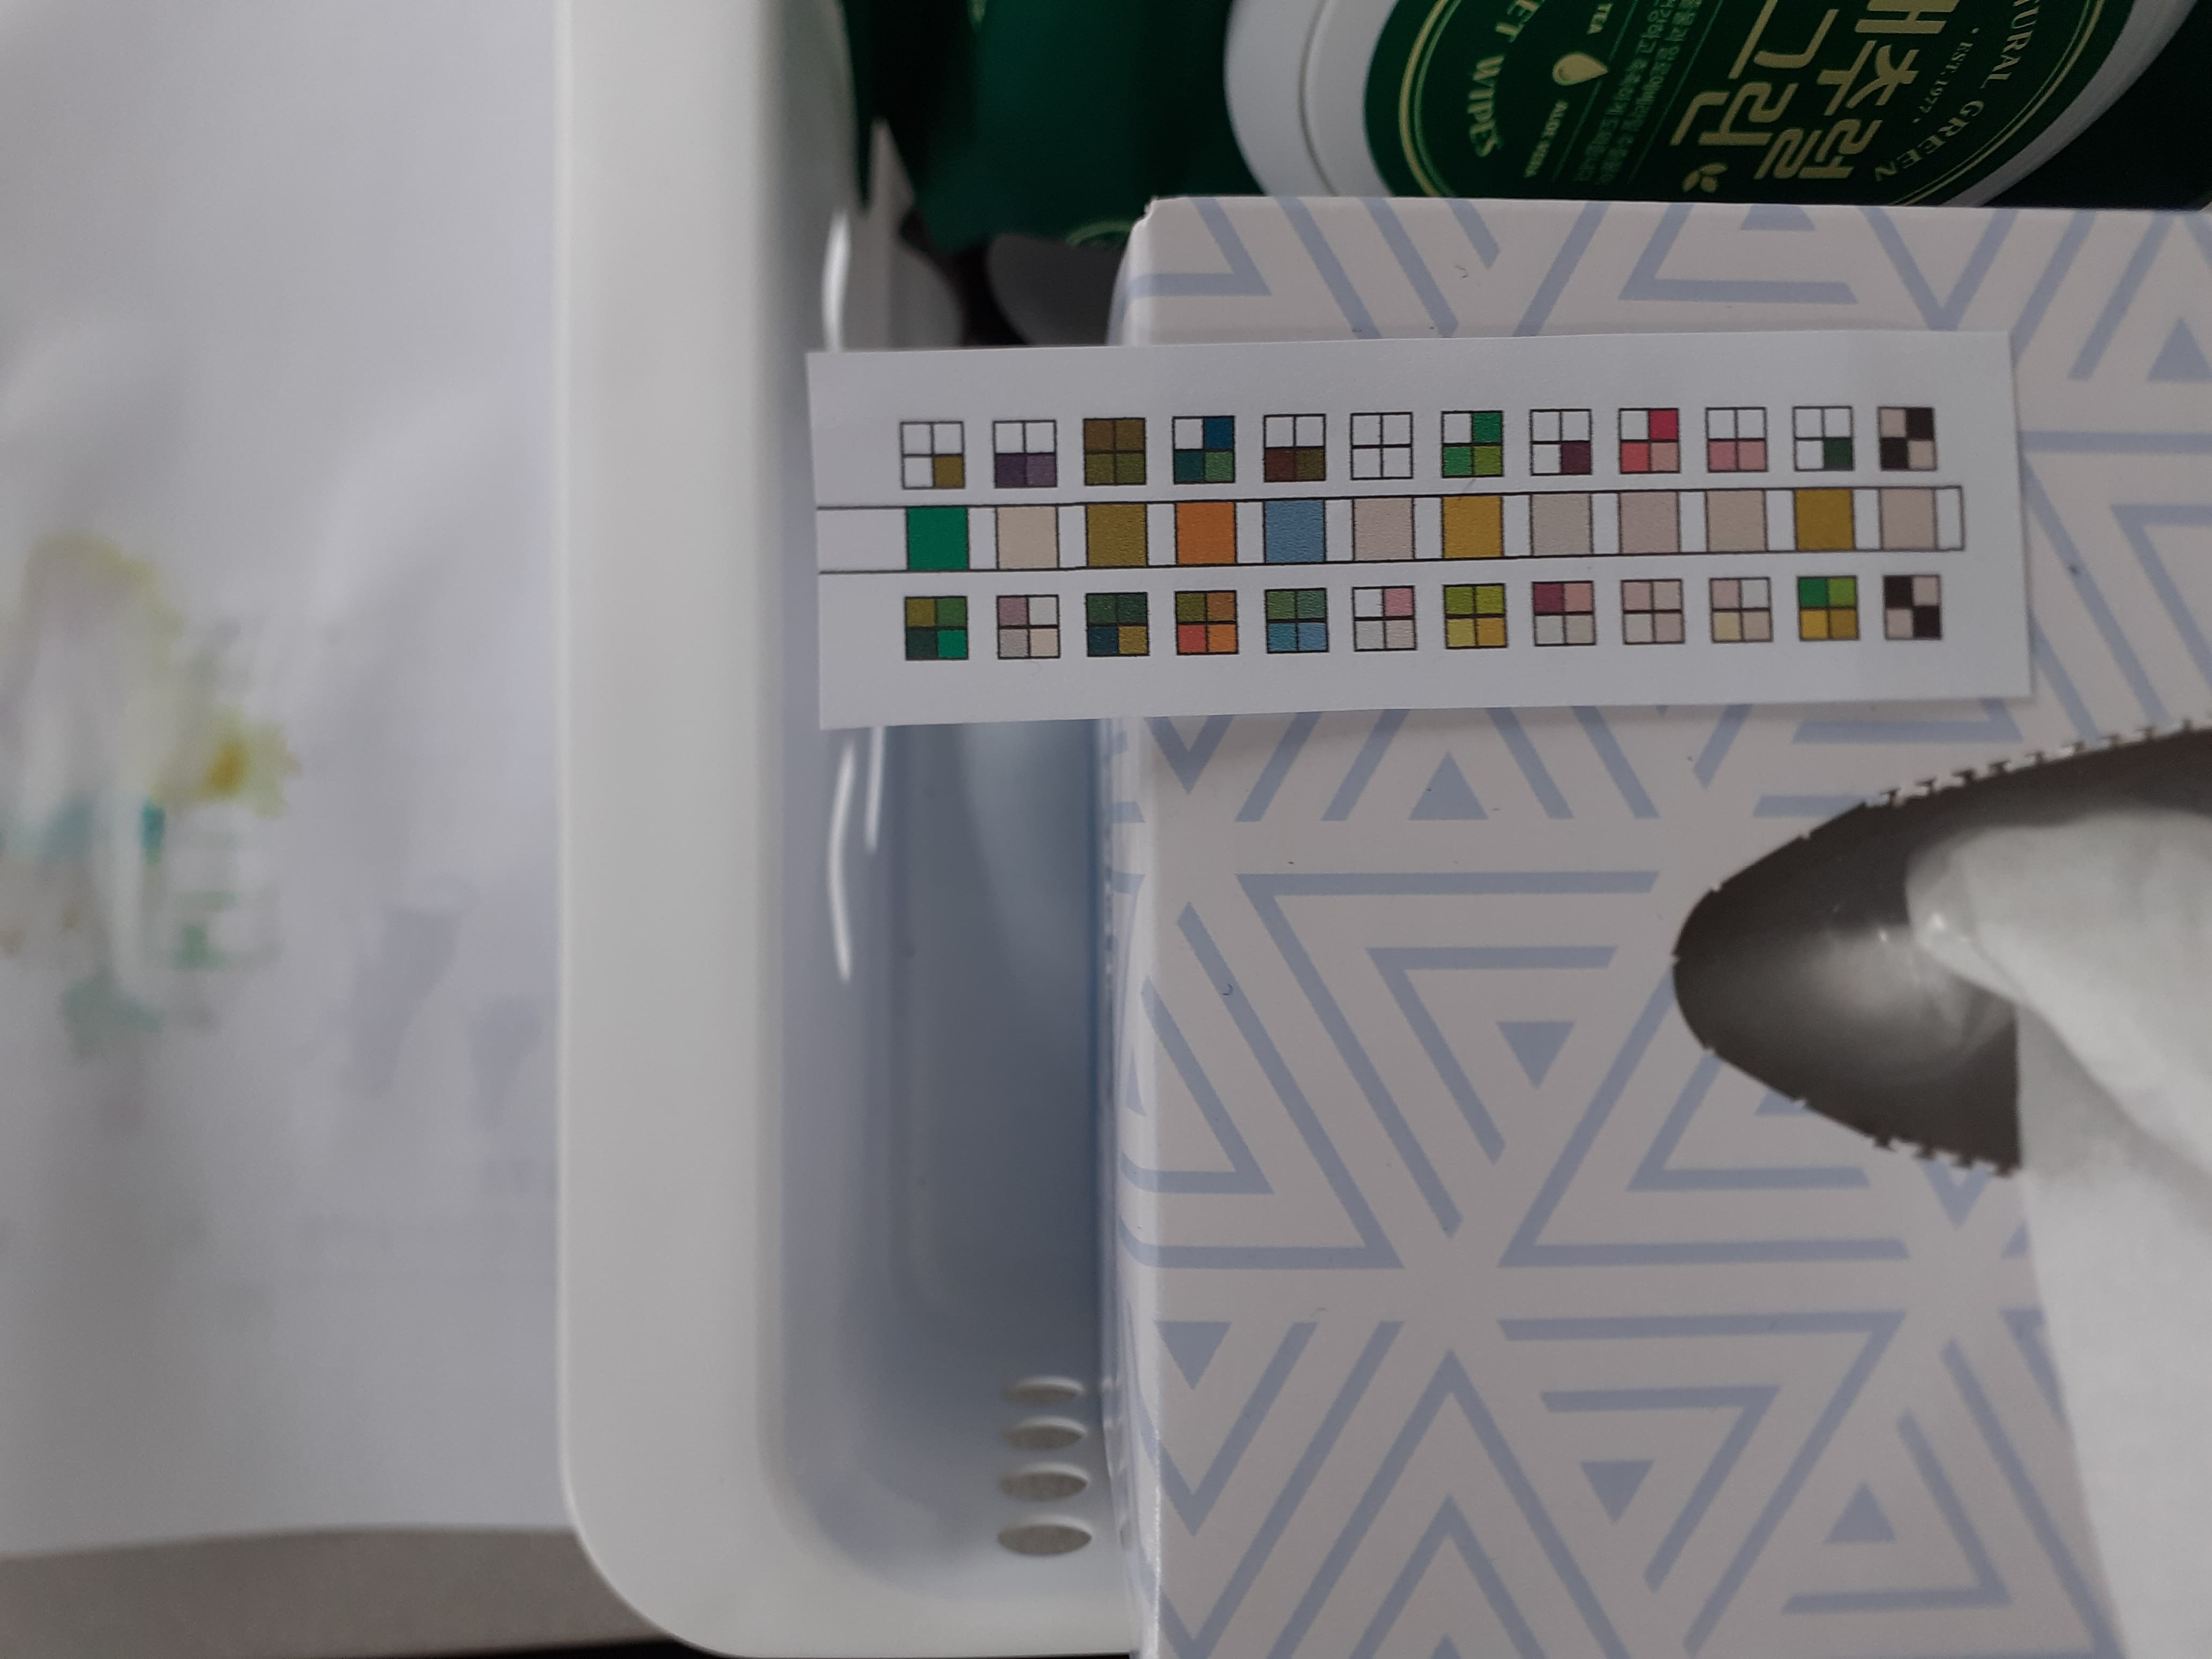tester: (808, 352, 2026, 702)
